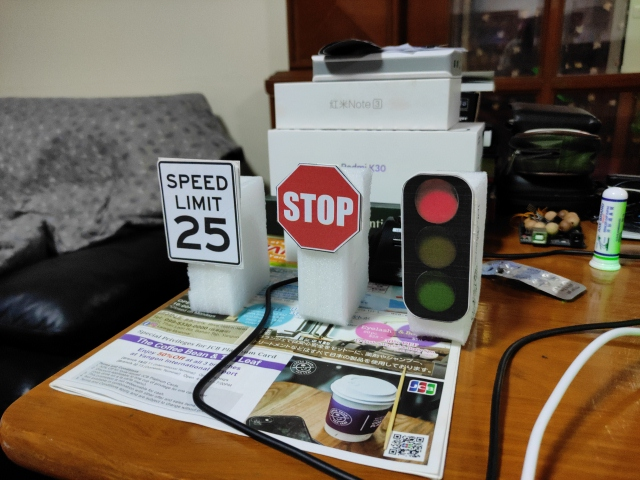Red Traffic Light: (401, 172, 474, 323)
Speed Limit 25: (156, 157, 243, 266)
Stop Sign: (276, 162, 363, 252)
